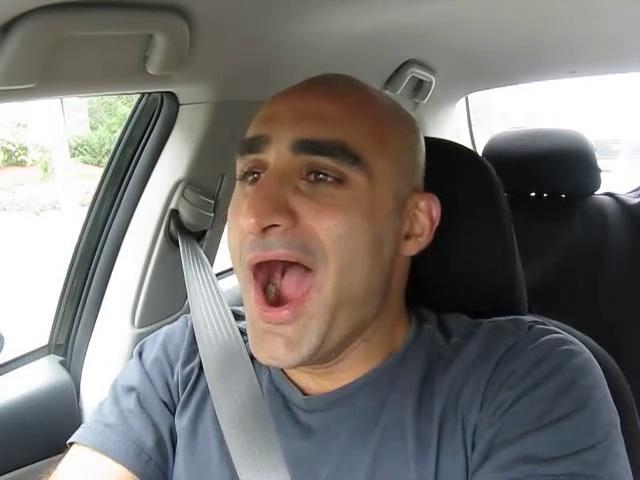open_eyeL: (222, 159, 278, 195)
open_eyeR: (285, 155, 369, 201)
yawn: (226, 239, 337, 330)
